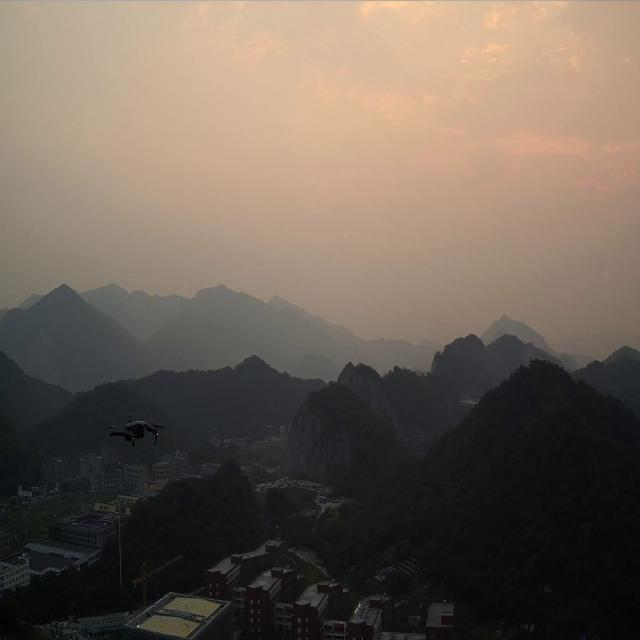UAV: (106, 414, 166, 447)
